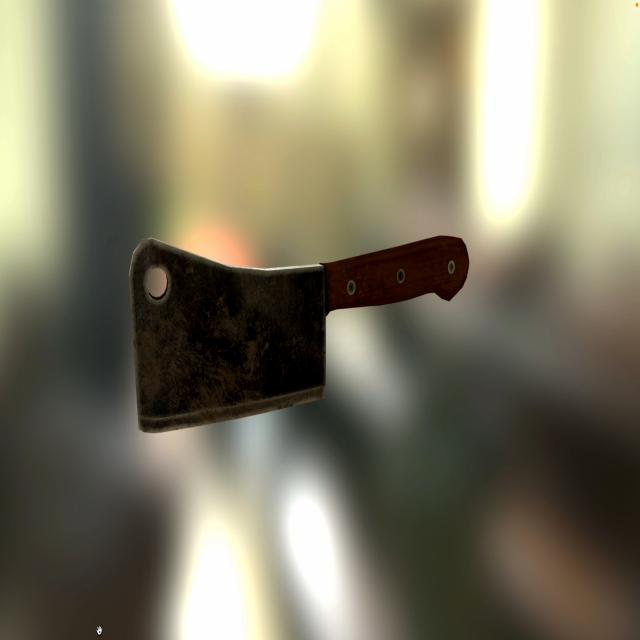cleaver: (129, 239, 475, 414)
